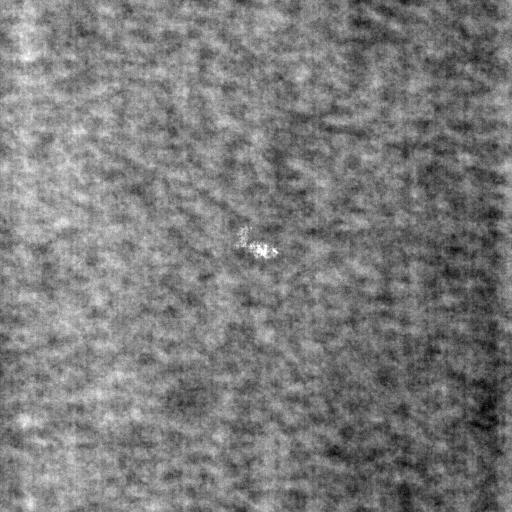DefectTypeA: (232, 221, 282, 265)
